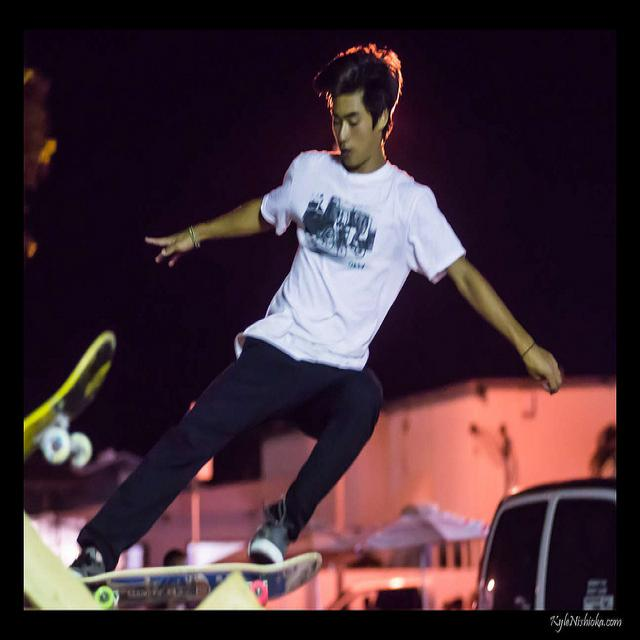Vehicle: (471, 482, 616, 615)
